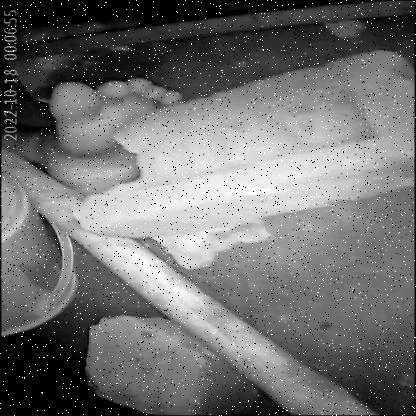leg: (0, 72, 194, 190)
